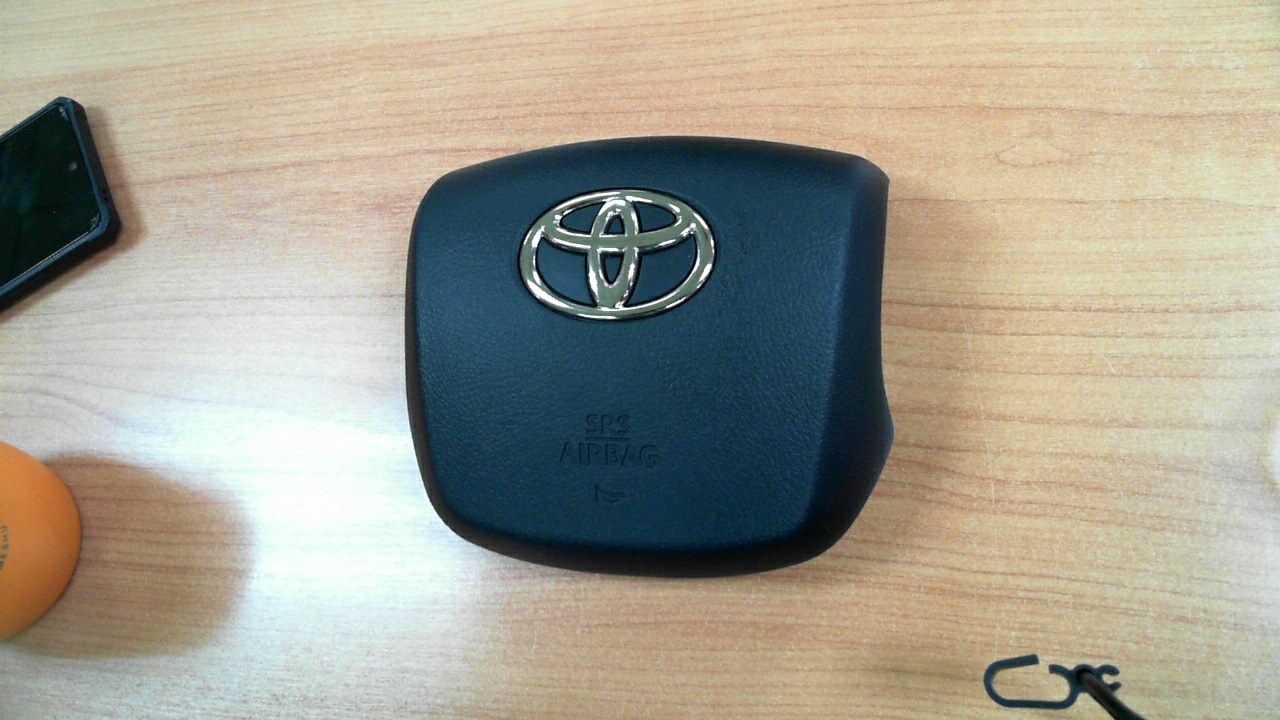Airbag: (372, 104, 925, 613)
